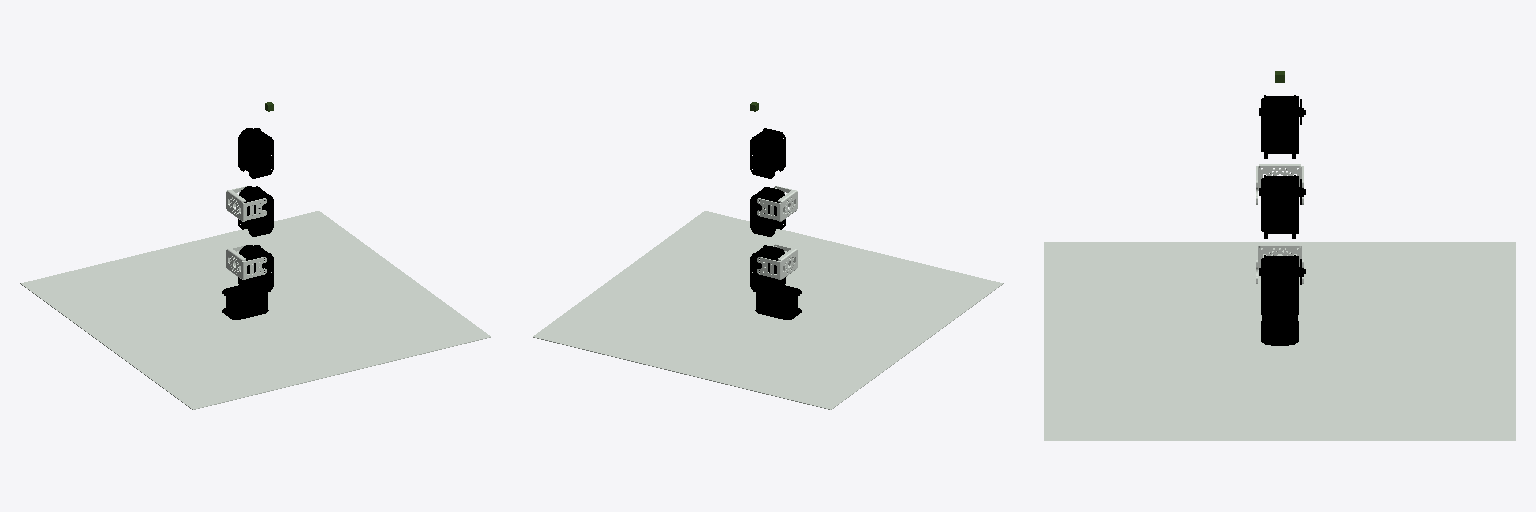
robot.urdf — stackit_robot:
<?xml version="1.0" ?>
<!-- =================================================================================== -->
<!-- |    This document was autogenerated by xacro from my_four_dof_arm.xacro          | -->
<!-- |    EDITING THIS FILE BY HAND IS NOT RECOMMENDED                                 | -->
<!-- =================================================================================== -->
<robot name="stackit_robot" xmlns:xacro="http://www.ros.org/wiki/xacro">
  <material name="white">
    <color rgba="0.87 0.90 0.87 1.0"/>
  </material>
  <material name="black">
    <color rgba="0.0 0.0 0.0 1.0"/>
  </material>
  <material name="green">
    <color rgba="0.22 0.32 0.14 1.0"/>
  </material>
  <link name="base_link"/>
  <link name="arm_base_link">
    <visual>
      <geometry>
        <box size="0.5 0.5 0.001"/>
      </geometry>
      <material name="white"/>
    </visual>
  </link>
  <joint name="arm_base_joint" type="fixed">
    <origin xyz="0 0 0"/>
    <parent link="base_link"/>
    <child link="arm_base_link"/>
  </joint>
  <!-- shoulder pan joint -->
  <joint name="base_pan_servo_joint" type="fixed">
    <origin rpy="0 0 -1.570795" xyz="0 0 0.019"/>
    <parent link="arm_base_link"/>
    <child link="base_pan_servo_link"/>
  </joint>
  <link name="base_pan_servo_link">
    <visual>
      <origin rpy="0 0 0" xyz=" 0 0 0 "/>
      <geometry>
        <mesh filename="package://trcp_stackit_description/meshes/MX-64R.stl" scale="0.001 0.001 0.001"/>
      </geometry>
      <material name="black"/>
    </visual>
    <collision>
      <origin rpy="0 0 0" xyz="0.0 -0.0135 0.0"/>
      <geometry>
        <box size="0.032 0.05 0.038"/>
      </geometry>
    </collision>
  </link>
  <joint name="base_pan_joint" type="revolute">
    <origin rpy="1.570795 0 1.570795" xyz="0 0 0.021"/>
    <axis xyz="0 1 0"/>
    <limit effort="30" lower="-1.571" upper="1.571" velocity="1.571"/>
    <parent link="base_pan_servo_link"/>
    <child link="base_pan_link"/>
  </joint>
  <link name="base_pan_link">
    <visual>
      <origin rpy="0 0 0" xyz=" 0 0 0 "/>
      <geometry>
        <mesh filename="package://trcp_stackit_description/meshes/FP05-S101.stl" scale="0.001 0.001 0.001"/>
      </geometry>
      <material name="white"/>
    </visual>
    <collision>
      <origin rpy="0 0 0" xyz="0.0 0.0045 0"/>
      <geometry>
        <box size="0.025 0.009 0.0382"/>
      </geometry>
    </collision>
  </link>
  <!-- shoulder lift joint -->
  <joint name="base_lift_servo_joint" type="fixed">
    <origin rpy="0 3.14159 0" xyz="0 0.0415 0"/>
    <parent link="base_pan_link"/>
    <child link="base_lift_servo_link"/>
  </joint>
  <link name="base_lift_servo_link">
    <visual>
      <origin rpy="0 0 0" xyz=" 0 0 0 "/>
      <geometry>
        <mesh filename="package://trcp_stackit_description/meshes/MX-64R.stl" scale="0.001 0.001 0.001"/>
      </geometry>
      <material name="black"/>
    </visual>
    <collision>
      <origin rpy="0 0 0" xyz="0.0 -0.0135 0.0"/>
      <geometry>
        <box size="0.032 0.05 0.038"/>
      </geometry>
    </collision>
  </link>
  <joint name="base_lift_joint" type="revolute">
    <origin rpy="-1.570795 -1.570795 0" xyz="0 0 0"/>
    <axis xyz="1 0 0"/>
    <limit effort="30" lower="-2.617" upper="2.617" velocity="1.571"/>
    <parent link="base_lift_servo_link"/>
    <child link="base_lift_link"/>
  </joint>
  <link name="base_lift_link">
    <visual>
      <origin rpy="0 0 0" xyz=" 0 0 0 "/>
      <geometry>
        <mesh filename="package://trcp_stackit_description/meshes/FR05-H101.stl" scale="0.001 0.001 0.001"/>
      </geometry>
      <material name="white"/>
    </visual>
    <collision>
      <origin rpy="0 0 0" xyz="0.0 0.0 0.0205"/>
      <geometry>
        <box size="0.048 0.029 0.063"/>
      </geometry>
    </collision>
  </link>
  <joint name="arm_shoulder_F3_0_joint" type="fixed">
    <origin rpy="1.570795 0 -1.570795" xyz="0 0 0.052"/>
    <parent link="base_lift_link"/>
    <child link="arm_shoulder_F3_0_link"/>
  </joint>
  <link name="arm_shoulder_F3_0_link">
    <visual>
      <origin rpy="0 0 0" xyz=" 0 0 0 "/>
      <geometry>
        <mesh filename="package://trcp_stackit_description/meshes/FP05-S101.stl" scale="0.001 0.001 0.001"/>
      </geometry>
      <material name="white"/>
    </visual>
    <collision>
      <origin rpy="0 0 0" xyz="0.0 0.0045 0"/>
      <geometry>
        <box size="0.025 0.009 0.0382"/>
      </geometry>
    </collision>
  </link>
  <!-- elbow joint -->
  <joint name="elbow_flex_servo_joint" type="fixed">
    <origin rpy="0 3.14159 0" xyz="0 0.0415 0"/>
    <parent link="arm_shoulder_F3_0_link"/>
    <child link="elbow_flex_servo_link"/>
  </joint>
  <link name="elbow_flex_servo_link">
    <visual>
      <origin rpy="0 0 0" xyz=" 0 0 0 "/>
      <geometry>
        <mesh filename="package://trcp_stackit_description/meshes/MX-64R.stl" scale="0.001 0.001 0.001"/>
      </geometry>
      <material name="black"/>
    </visual>
    <collision>
      <origin rpy="0 0 0" xyz="0.0 -0.0135 0.0"/>
      <geometry>
        <box size="0.032 0.05 0.038"/>
      </geometry>
    </collision>
  </link>
  <joint name="elbow_flex_joint" type="revolute">
    <origin rpy="-1.570795 -1.570795 0" xyz="0 0 0"/>
    <axis xyz="1 0 0"/>
    <limit effort="30" lower="0.0" upper="2.617" velocity="1.571"/>
    <parent link="elbow_flex_servo_link"/>
    <child link="elbow_flex_link"/>
  </joint>
  <link name="elbow_flex_link">
    <visual>
      <origin rpy="0 0 0" xyz=" 0 0 0 "/>
      <geometry>
        <mesh filename="package://trcp_stackit_description/meshes/FR05-H101.stl" scale="0.001 0.001 0.001"/>
      </geometry>
      <material name="white"/>
    </visual>
    <collision>
      <origin rpy="0 0 0" xyz="0.0 0.0 0.0205"/>
      <geometry>
        <box size="0.048 0.029 0.063"/>
      </geometry>
    </collision>
  </link>
  <joint name="elbow_F3_0_joint" type="fixed">
    <origin rpy="1.570795 0 -1.570795" xyz="0 0 0.052"/>
    <parent link="elbow_flex_link"/>
    <child link="elbow_F3_0_link"/>
  </joint>
  <link name="elbow_F3_0_link">
    <visual>
      <origin rpy="0 0 0" xyz=" 0 0 0 "/>
      <geometry>
        <mesh filename="package://trcp_stackit_description/meshes/FP05-S101.stl" scale="0.001 0.001 0.001"/>
      </geometry>
      <material name="white"/>
    </visual>
    <collision>
      <origin rpy="0 0 0" xyz="0.0 0.0045 0"/>
      <geometry>
        <box size="0.025 0.009 0.0382"/>
      </geometry>
    </collision>
  </link>
  <!-- wrist joint -->
  <joint name="wrist_flex_servo_joint" type="fixed">
    <origin rpy="0 3.14159 0" xyz="0 0.0415 0"/>
    <parent link="elbow_F3_0_link"/>
    <child link="wrist_flex_servo_link"/>
  </joint>
  <link name="wrist_flex_servo_link">
    <visual>
      <origin rpy="0 0 0" xyz=" 0 0 0 "/>
      <geometry>
        <mesh filename="package://trcp_stackit_description/meshes/MX-64R.stl" scale="0.001 0.001 0.001"/>
      </geometry>
      <material name="black"/>
    </visual>
    <collision>
      <origin rpy="0 0 0" xyz="0.0 -0.0135 0.0"/>
      <geometry>
        <box size="0.032 0.05 0.038"/>
      </geometry>
    </collision>
  </link>
  <joint name="wrist_flex_joint" type="revolute">
    <origin rpy="-1.570795 -1.570795 0" xyz="0 0 0"/>
    <axis xyz="1 0 0"/>
    <limit effort="30" lower="-1.745" upper="1.745" velocity="1.571"/>
    <parent link="wrist_flex_servo_link"/>
    <child link="wrist_flex_link"/>
  </joint>
  <link name="wrist_flex_link">
    <visual>
      <origin rpy="0 0 0" xyz=" 0 0 0 "/>
      <geometry>
        <mesh filename="package://trcp_stackit_description/meshes/FP05-H101.stl" scale="0.001 0.001 0.001"/>
      </geometry>
      <material name="white"/>
    </visual>
    <collision>
      <origin rpy="0 0 0" xyz="0.0 0.0 0.00775"/>
      <geometry>
        <box size="0.0485 0.025 0.0375"/>
      </geometry>
    </collision>
  </link>
  <joint name="wrist_F2_0_joint" type="fixed">
    <origin rpy="0 3.14159 1.570795" xyz="0 0 0.052"/>
    <parent link="wrist_flex_link"/>
    <child link="wrist_F2_0_link"/>
  </joint>
  <link name="wrist_F2_0_link">
    <visual>
      <origin rpy="0 0 0" xyz=" 0 0 0 "/>
      <geometry>
        <mesh filename="package://trcp_stackit_description/meshes/FP05-H101.stl" scale="0.001 0.001 0.001"/>
      </geometry>
      <material name="white"/>
    </visual>
    <collision>
      <origin rpy="0 0 0" xyz="0.0 0.0 0.00775"/>
      <geometry>
        <box size="0.0485 0.025 0.0375"/>
      </geometry>
    </collision>
  </link>
  <!-- dummy joint -->
  <link name="dummy_a_link"/>
  <joint name="dummy_a_joint" type="revolute">
    <parent link="wrist_F2_0_link"/>
    <child link="dummy_a_link"/>
    <origin rpy="3.14159 0 0" xyz="0.0225 0 0"/>
    <axis xyz="1 0 0"/>
    <limit effort="30" lower="-1.571" upper="1.571" velocity="1.571"/>
  </joint>
  <link name="dummy_b_link">
    <visual>
      <geometry>
        <box size="0.01 0.01 0.01"/>
      </geometry>
      <material name="green"/>
    </visual>
  </link>
  <joint name="dummy_b_joint" type="fixed">
    <parent link="dummy_a_link"/>
    <child link="dummy_b_link"/>
    <origin rpy="0 0 0" xyz="0 0 0"/>
    <axis xyz="0 0 0"/>
  </joint>
</robot>

--- What the picture shows (computed from the rendered views, not written in the file) ---
Views: 3 orthographic renders of the robot side by side, from view 1: azimuth 30°, elevation 25°; view 2: azimuth 150°, elevation 25°; view 3: azimuth 270°, elevation 25°.
Robot: stackit_robot — 15 links, 14 joints (5 revolute, 9 fixed); root link base_link; default pose: all joints at 0.
Visible links, largest first — view 1: arm_base_link, wrist_flex_servo_link, base_pan_servo_link, elbow_flex_servo_link, base_lift_servo_link, base_lift_link, elbow_flex_link; view 2: arm_base_link, wrist_flex_servo_link, base_pan_servo_link, elbow_flex_servo_link, base_lift_servo_link, base_lift_link, elbow_flex_link; view 3: arm_base_link, elbow_flex_servo_link, wrist_flex_servo_link, base_lift_servo_link, base_pan_servo_link, elbow_flex_link, base_lift_link.
Boxes of the visible links, x1,y1,x2,y2 form: arm_base_link: (20,211,490,409); wrist_flex_servo_link: (238,128,273,178); base_pan_servo_link: (222,285,268,319); elbow_flex_servo_link: (238,186,273,236); base_lift_servo_link: (238,245,273,294); base_lift_link: (226,244,266,279); elbow_flex_link: (226,186,266,221); arm_base_link: (533,211,1003,409); wrist_flex_servo_link: (750,128,785,178); base_pan_servo_link: (755,285,801,319); elbow_flex_servo_link: (750,187,785,236); base_lift_servo_link: (750,245,785,294); base_lift_link: (757,244,797,279); elbow_flex_link: (757,186,797,221); arm_base_link: (1044,242,1515,440); elbow_flex_servo_link: (1259,175,1305,238); wrist_flex_servo_link: (1259,95,1305,158); base_lift_servo_link: (1259,255,1305,318); base_pan_servo_link: (1261,311,1298,345); elbow_flex_link: (1256,164,1303,204); base_lift_link: (1256,244,1303,283).
Bounding box of the posed robot: 0.5 × 0.5 × 0.3285 m (x, y, z).
Meshes: 4 distinct files referenced, 6 mesh visuals loaded (2 binary STL); not drawn: 5 (reference not matched to a file when rendering).